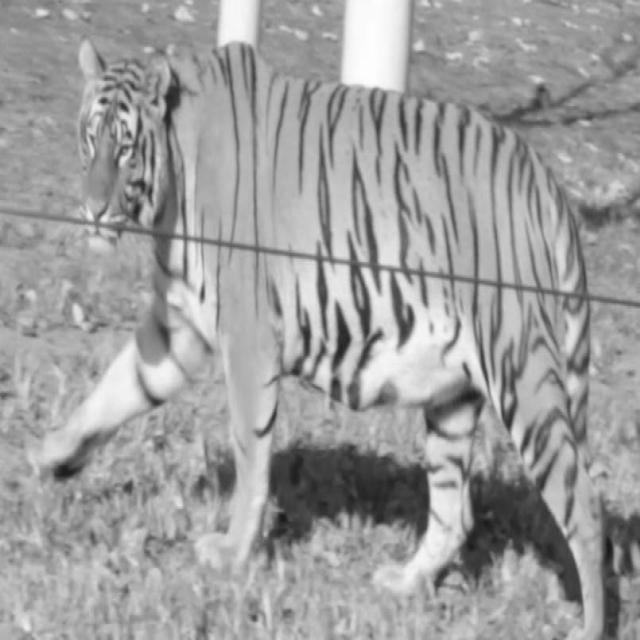TIGER: (56, 28, 614, 619)
